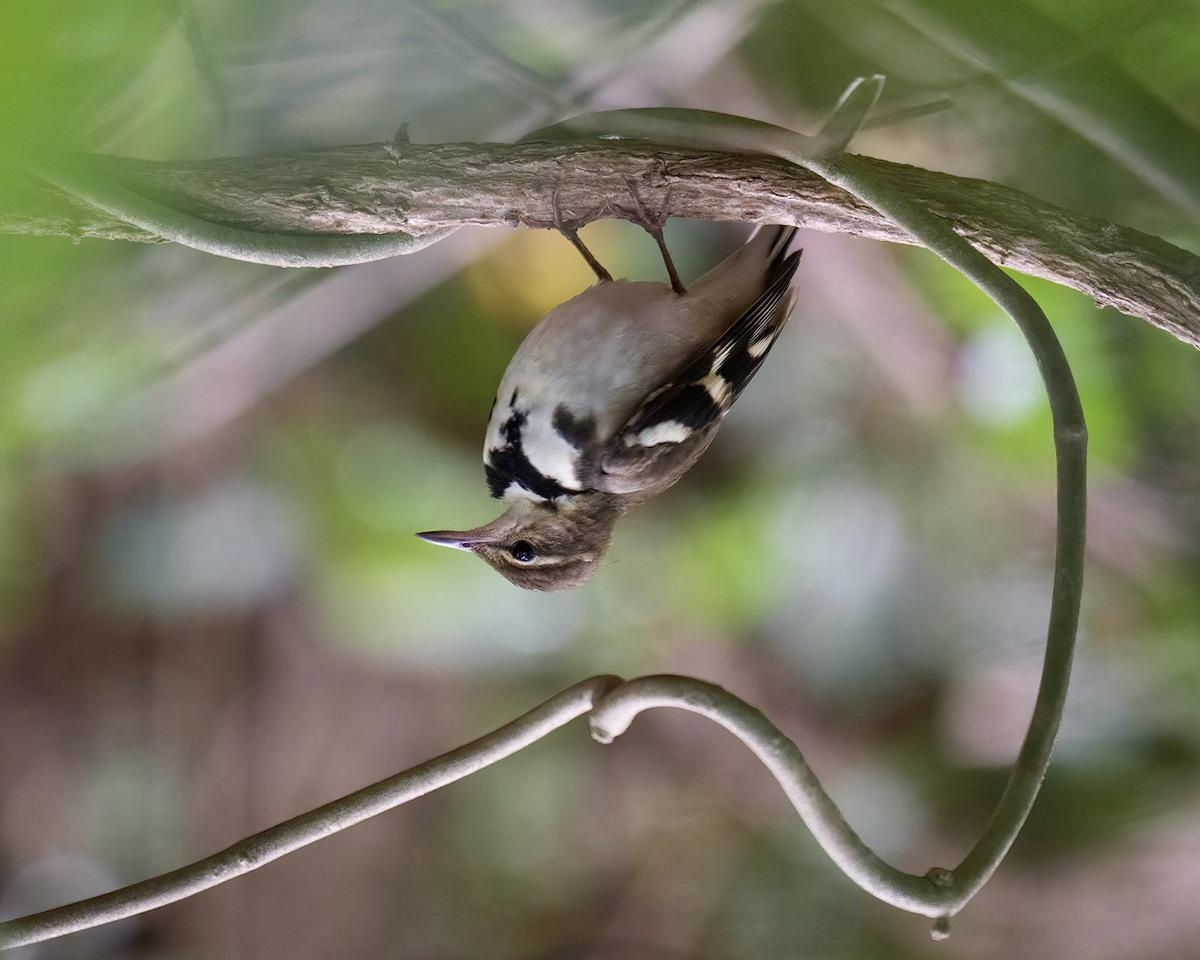wagtail: (412, 124, 860, 613)
